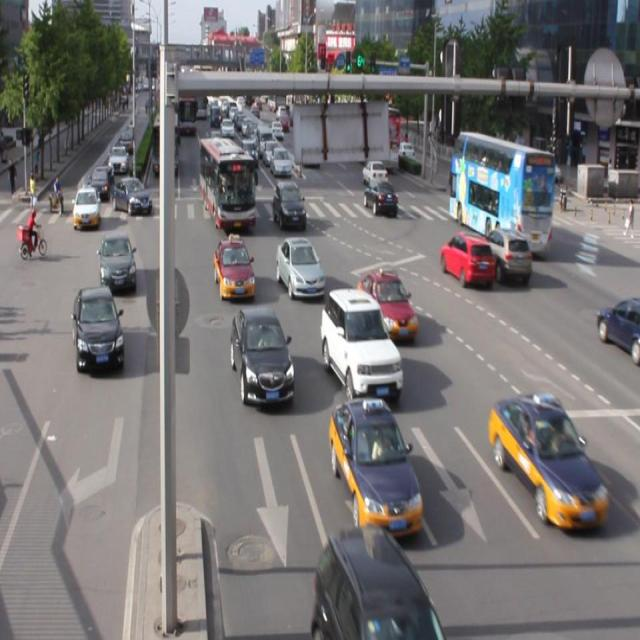car: (490, 391, 607, 526), (313, 525, 443, 640), (329, 396, 422, 534), (322, 286, 401, 399), (231, 304, 294, 407), (357, 266, 417, 340), (73, 285, 124, 372), (276, 236, 326, 299), (596, 295, 640, 363), (439, 230, 494, 284), (478, 226, 531, 281), (212, 238, 255, 299), (100, 230, 137, 293)
van: (447, 129, 553, 255)
